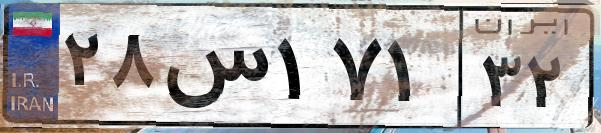1: (270, 28, 330, 110), (385, 28, 445, 110)
2: (57, 26, 110, 100), (525, 38, 570, 115)
3: (475, 38, 525, 113)
7: (330, 28, 385, 110)
8: (110, 28, 158, 98)
س: (158, 20, 270, 120)
